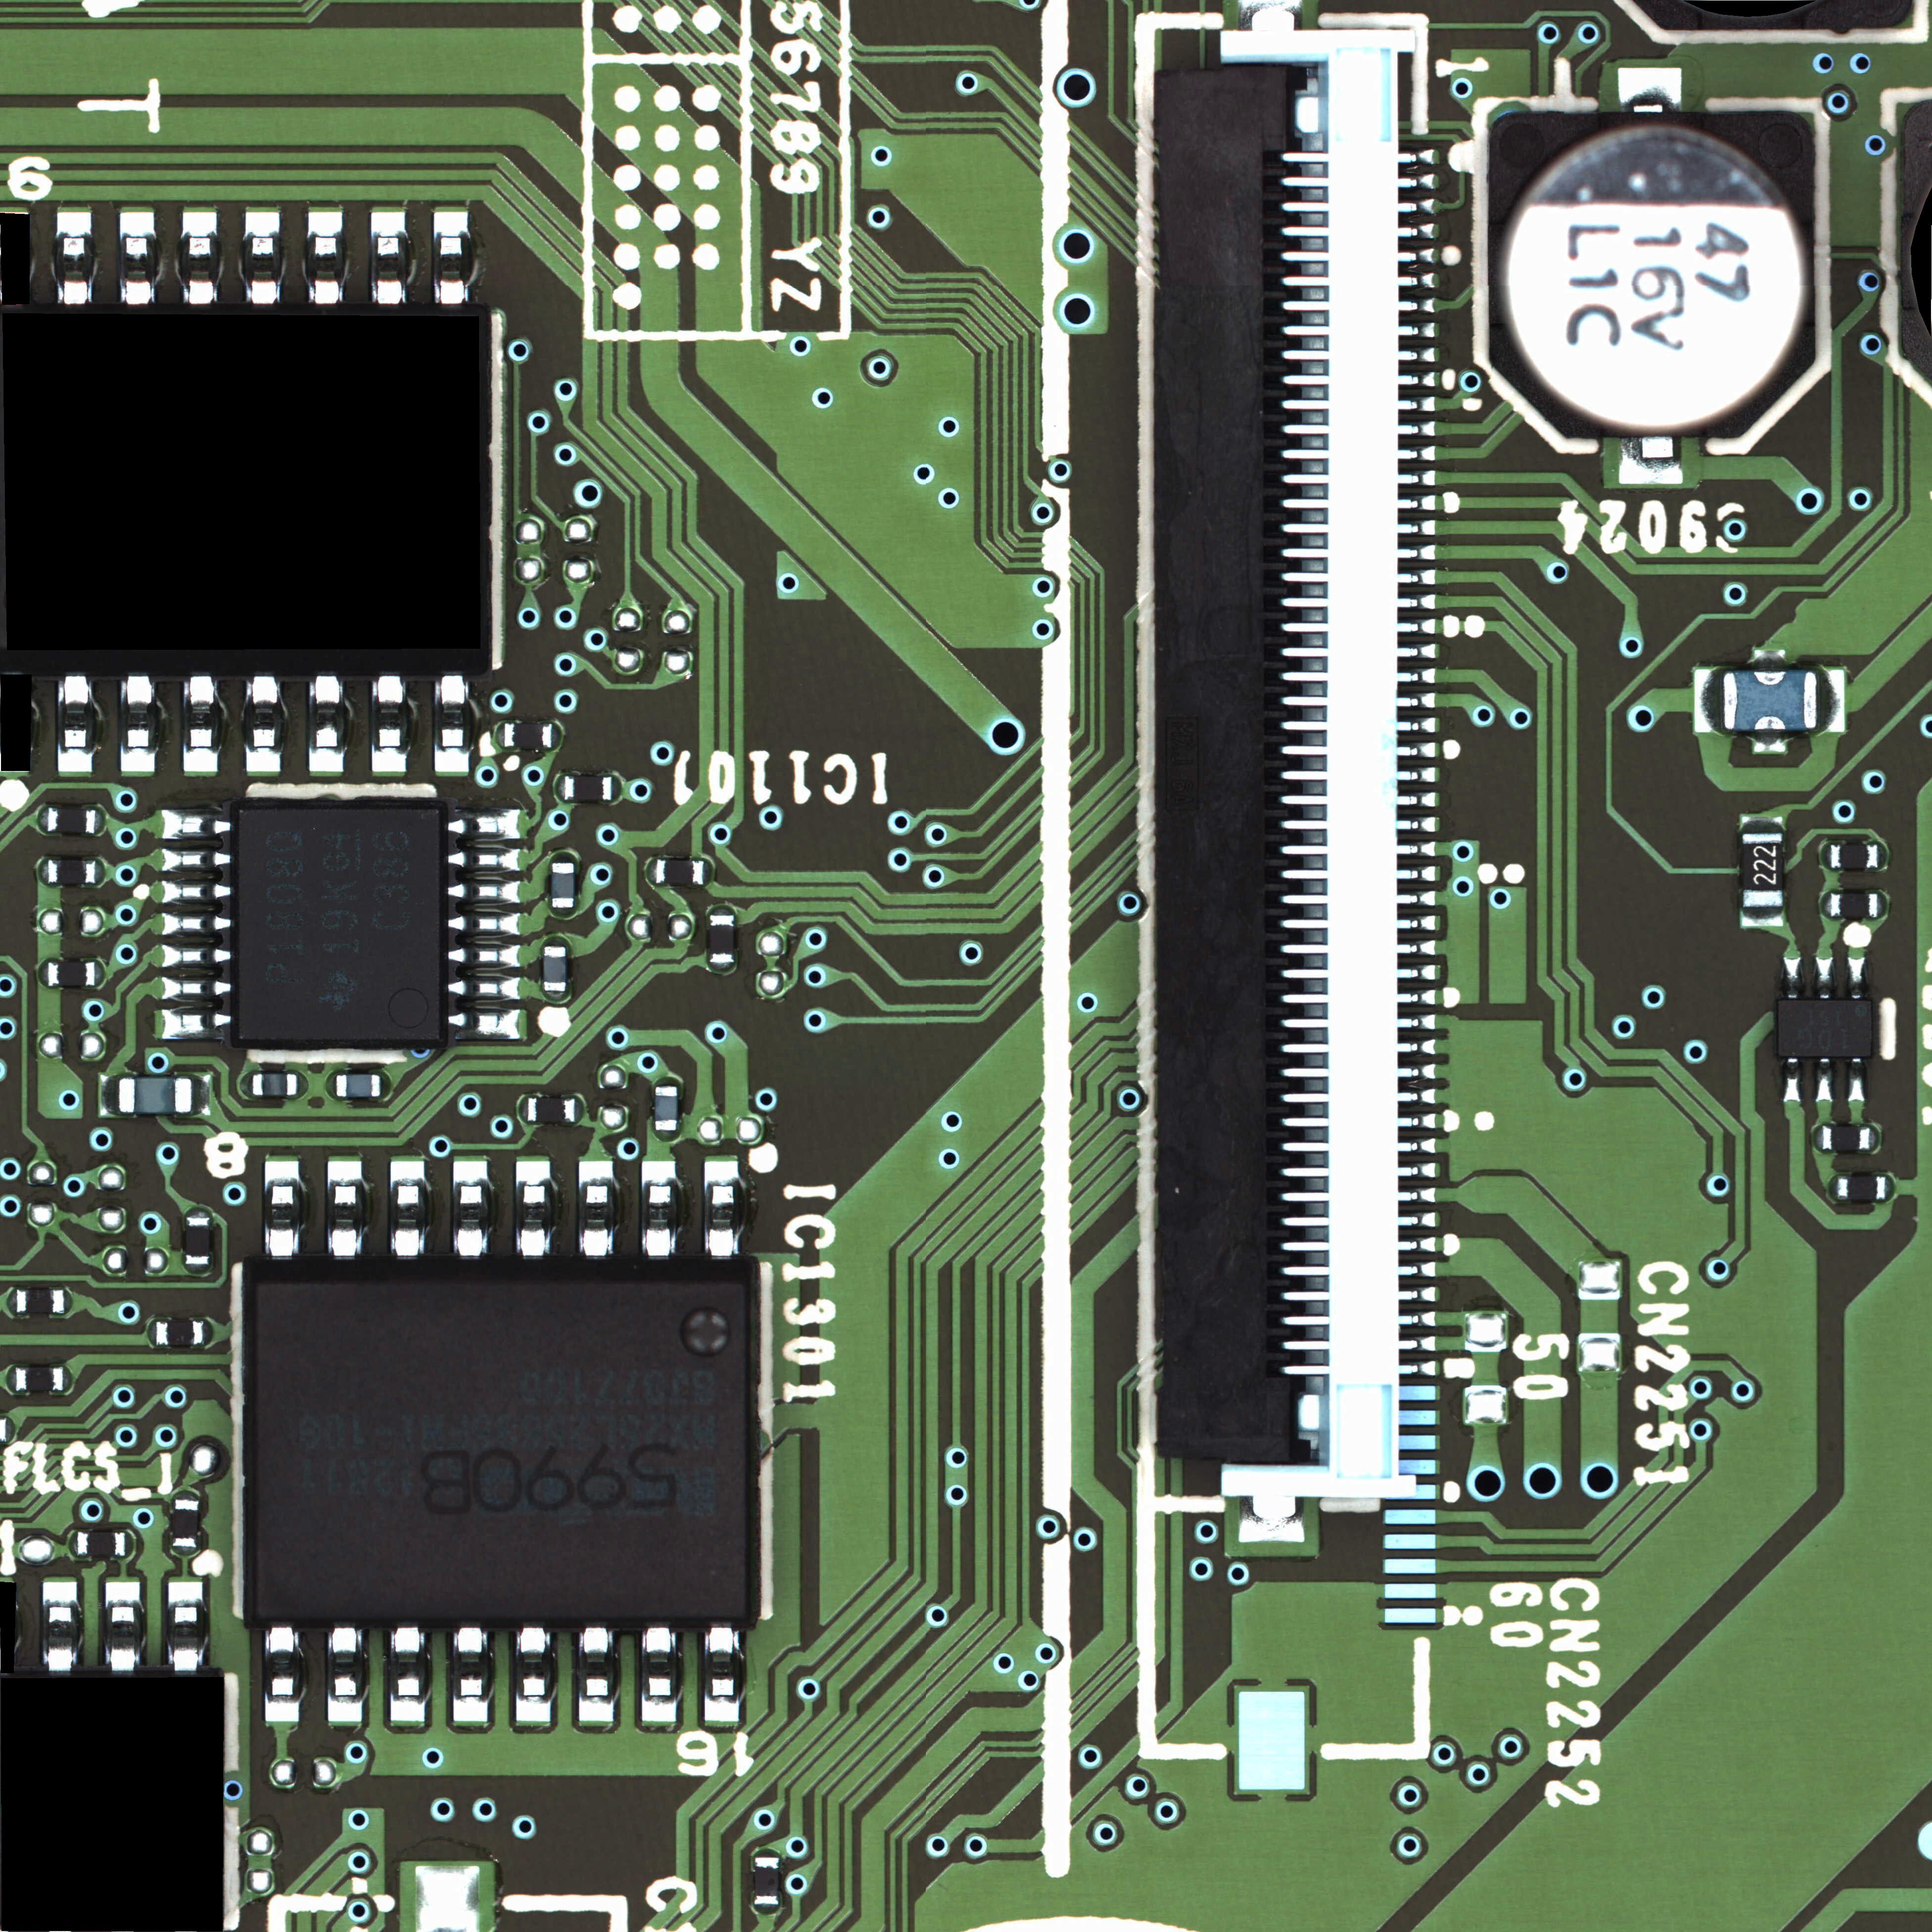Package: (242, 1258, 757, 1626), (1491, 113, 1817, 439), (232, 801, 448, 1044), (1775, 998, 1874, 1058), (1723, 671, 1817, 729), (1743, 833, 1785, 908), (120, 1079, 193, 1113), (173, 1499, 200, 1548), (656, 860, 704, 885), (527, 1097, 575, 1122), (78, 1532, 126, 1557), (1822, 1125, 1870, 1150), (14, 1368, 64, 1391), (1831, 844, 1877, 869), (48, 860, 96, 883), (48, 962, 96, 985), (48, 810, 96, 833), (504, 724, 552, 747), (564, 777, 612, 800), (156, 1322, 203, 1345), (552, 862, 575, 908), (18, 1290, 64, 1313), (1831, 893, 1877, 916), (1838, 1177, 1884, 1200), (755, 1858, 778, 1904), (336, 1074, 380, 1097), (655, 1088, 678, 1132), (253, 1074, 297, 1095), (711, 916, 732, 961), (545, 947, 566, 991), (188, 1219, 209, 1263)
Solder: (166, 1578, 207, 1674), (310, 672, 347, 775), (389, 1626, 428, 1723), (637, 1626, 676, 1721), (180, 207, 219, 303), (120, 674, 157, 773), (244, 674, 281, 773), (42, 1578, 81, 1672), (326, 1626, 363, 1723), (702, 1626, 740, 1723), (451, 1159, 488, 1256), (184, 674, 219, 775), (515, 1626, 552, 1721), (106, 1578, 143, 1674), (119, 209, 156, 304), (306, 209, 343, 304), (433, 209, 471, 304), (327, 1159, 363, 1258), (372, 674, 407, 773), (433, 674, 469, 773), (370, 211, 407, 304), (265, 1626, 301, 1723), (704, 1161, 740, 1258), (579, 1161, 614, 1258), (265, 1161, 301, 1258), (57, 676, 92, 773), (579, 1626, 614, 1721), (391, 1159, 425, 1258), (453, 1628, 488, 1721), (57, 209, 92, 303), (642, 1159, 676, 1256), (517, 1159, 550, 1256), (246, 207, 280, 304), (1619, 65, 1683, 113), (1621, 439, 1683, 483), (448, 1007, 520, 1040), (448, 809, 520, 840), (161, 809, 230, 839), (161, 1008, 230, 1039), (1695, 669, 1723, 732), (448, 911, 520, 936), (448, 975, 520, 1000), (161, 879, 232, 904), (1817, 671, 1845, 732), (161, 943, 230, 968), (161, 977, 230, 1001), (448, 847, 520, 870), (448, 945, 520, 968), (163, 847, 230, 872), (161, 911, 232, 934), (448, 881, 520, 902), (1847, 1058, 1867, 1102), (1783, 957, 1803, 998), (1815, 957, 1835, 998), (1847, 957, 1867, 998), (1783, 1058, 1801, 1102), (1815, 1058, 1833, 1102), (1743, 819, 1785, 833), (1743, 906, 1785, 920), (193, 1077, 209, 1113), (104, 1079, 119, 1113), (612, 775, 625, 801), (704, 858, 717, 885), (173, 1545, 198, 1557), (1877, 844, 1890, 869), (552, 722, 563, 748), (175, 1490, 202, 1500), (94, 962, 104, 987), (380, 1074, 391, 1099), (575, 1097, 586, 1122), (7, 1288, 18, 1313), (1877, 893, 1888, 918), (1819, 893, 1829, 918), (1812, 1125, 1822, 1150), (1828, 1175, 1838, 1200), (5, 1417, 16, 1442), (543, 936, 566, 947), (648, 858, 656, 885), (205, 1320, 214, 1346), (554, 908, 575, 918), (552, 851, 573, 862), (656, 1132, 678, 1143), (189, 1263, 211, 1274), (96, 858, 104, 883), (39, 858, 48, 883), (495, 722, 504, 747), (556, 775, 564, 800), (518, 1097, 527, 1122), (147, 1320, 156, 1345), (69, 1532, 78, 1557), (126, 1532, 134, 1557), (64, 1288, 73, 1313), (64, 1366, 73, 1391), (1821, 844, 1829, 869), (39, 962, 48, 985), (709, 906, 732, 915), (186, 1208, 209, 1217), (1870, 1127, 1879, 1150), (1886, 1177, 1895, 1200), (755, 1905, 778, 1914), (755, 1849, 778, 1858), (244, 1074, 253, 1095), (297, 1074, 306, 1095), (713, 962, 734, 971), (547, 993, 568, 1001), (655, 1077, 676, 1086), (96, 809, 103, 833), (41, 809, 48, 833), (7, 1368, 14, 1392), (329, 1074, 336, 1097)
